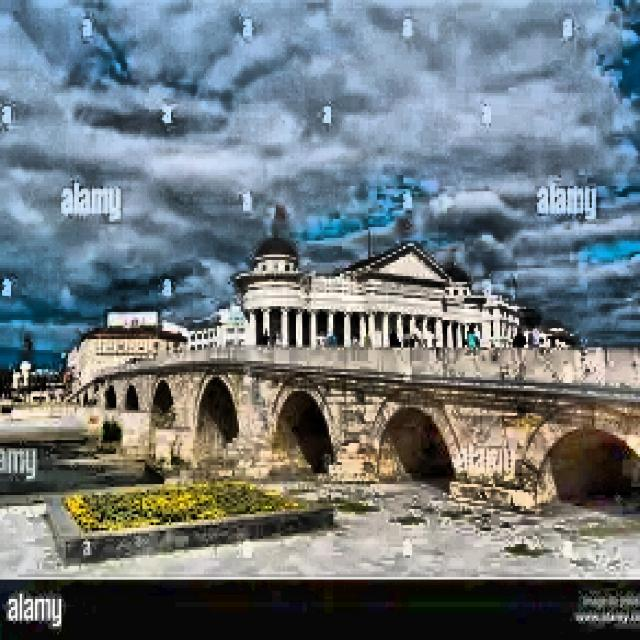stone bridge: (59, 344, 640, 508)
